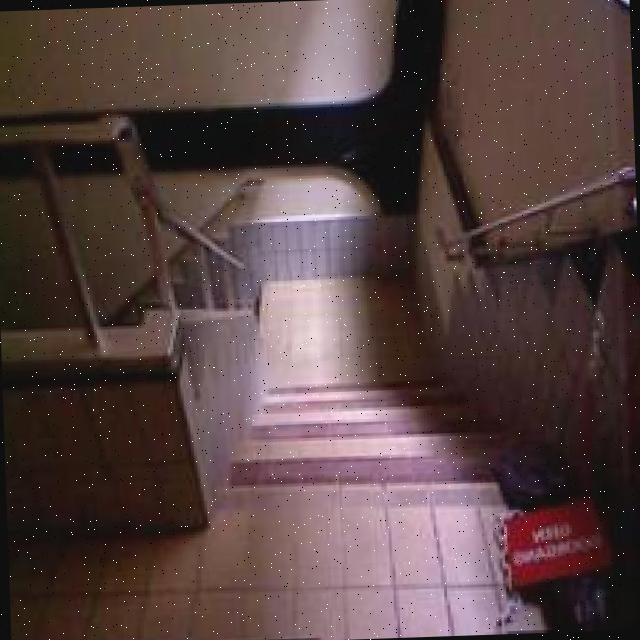stairs: (218, 266, 508, 492)
